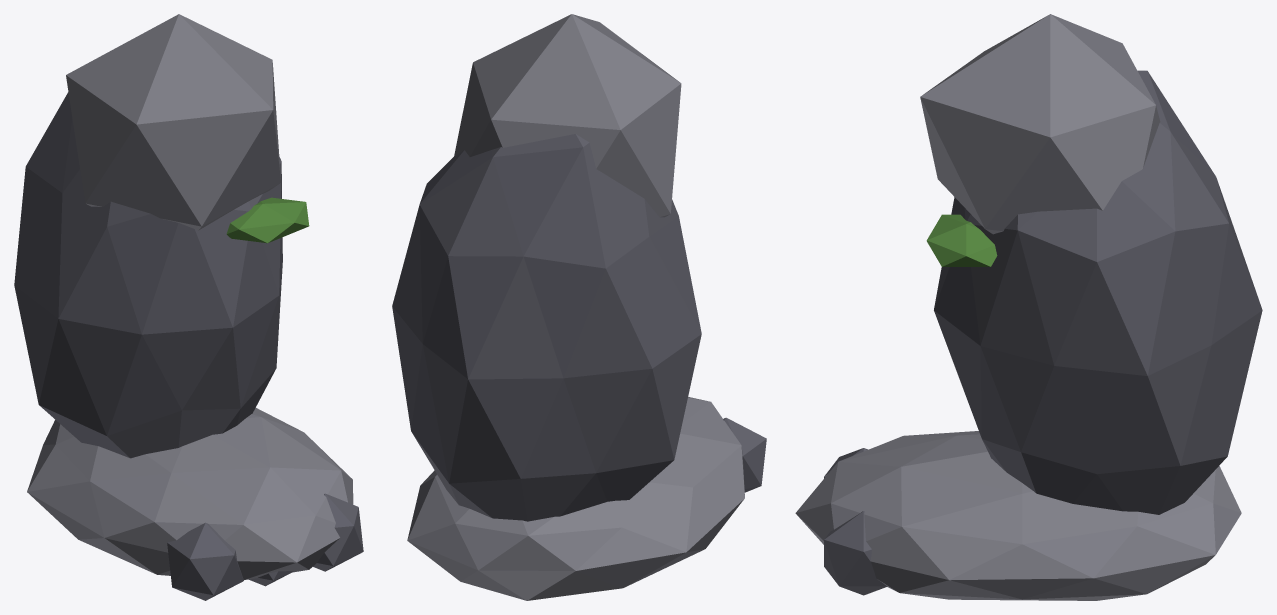
Rendered from boss_golem_leg.glb.
3 renders of one model, left to right at view 1: azimuth 30°, elevation 25°; view 2: azimuth 150°, elevation 25°; view 3: azimuth 270°, elevation 25°, orthographic. The views are drawn at different scales.
Parts seen in each view (by area): view 1: Icosphere; view 2: Icosphere; view 3: Icosphere.
Boxes of the visible parts, left/top/right/bottom form: Icosphere: left=14, top=14, right=363, bottom=600; Icosphere: left=392, top=14, right=766, bottom=600; Icosphere: left=795, top=14, right=1262, bottom=600.
Bounding box in the file's own units: 0.6877 × 1.32 × 1.
